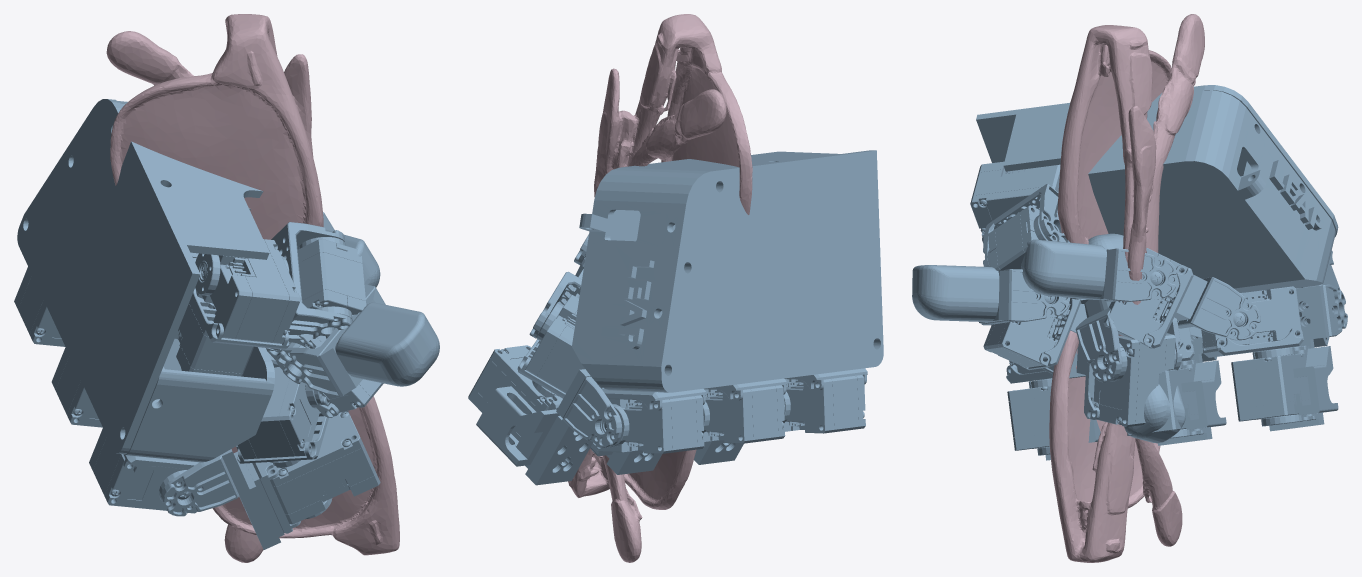
The picture shows the model from 3 angles, left to right: view 1: azimuth 30°, elevation 25°; view 2: azimuth 150°, elevation 25°; view 3: azimuth 270°, elevation 25°; orthographic projection. The views are drawn at different scales.
Visible parts, largest first — view 1: world, obj_mesh_grasp_5.obj; view 2: world, obj_mesh_grasp_5.obj; view 3: world, obj_mesh_grasp_5.obj.
Part boxes in pixels (bbox=[...]): world: bbox=[14, 99, 439, 549]; obj_mesh_grasp_5.obj: bbox=[106, 14, 399, 562]; world: bbox=[468, 150, 883, 485]; obj_mesh_grasp_5.obj: bbox=[568, 14, 752, 562]; world: bbox=[912, 85, 1347, 460]; obj_mesh_grasp_5.obj: bbox=[1049, 14, 1204, 562].
Bounding box in the file's own units: 0.122 × 0.215 × 0.1672.
